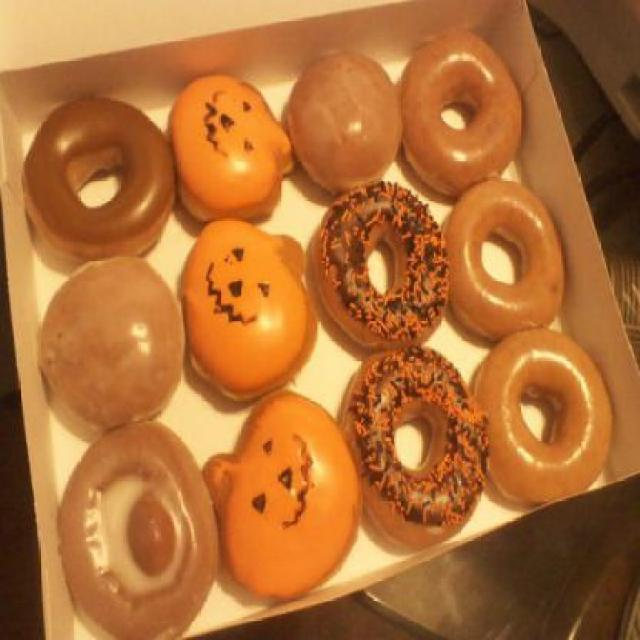Donuts: (18, 38, 610, 626)
